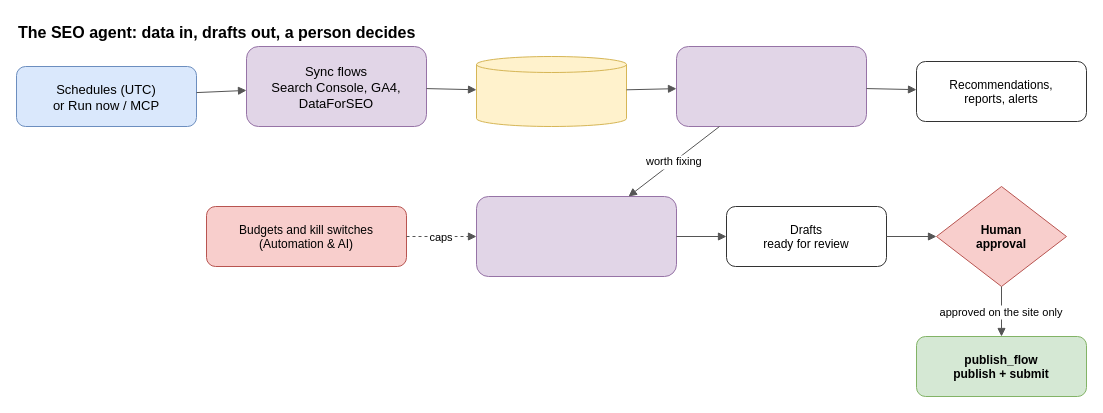
The diagram is 1103 pixels wide and 413 high, and some of its shapes have lost their labels. Each missing label, with the box of its shape:
optimize_article_flow / new_article_flow (Claude crews): (476, 196, 676, 276)
Rules + ML models scoring, decay, intent, clusters, related: (676, 46, 866, 126)
SEO data (PostgreSQL): (476, 56, 626, 126)
